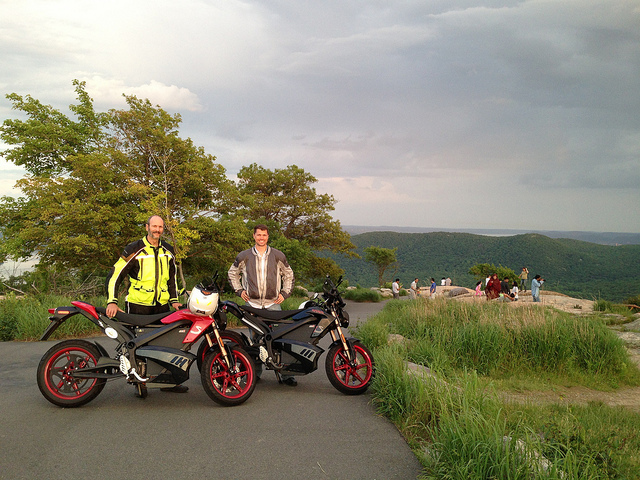Bike: (39, 296, 261, 403), (232, 296, 382, 411)
Person: (114, 211, 182, 307), (230, 220, 292, 303)
